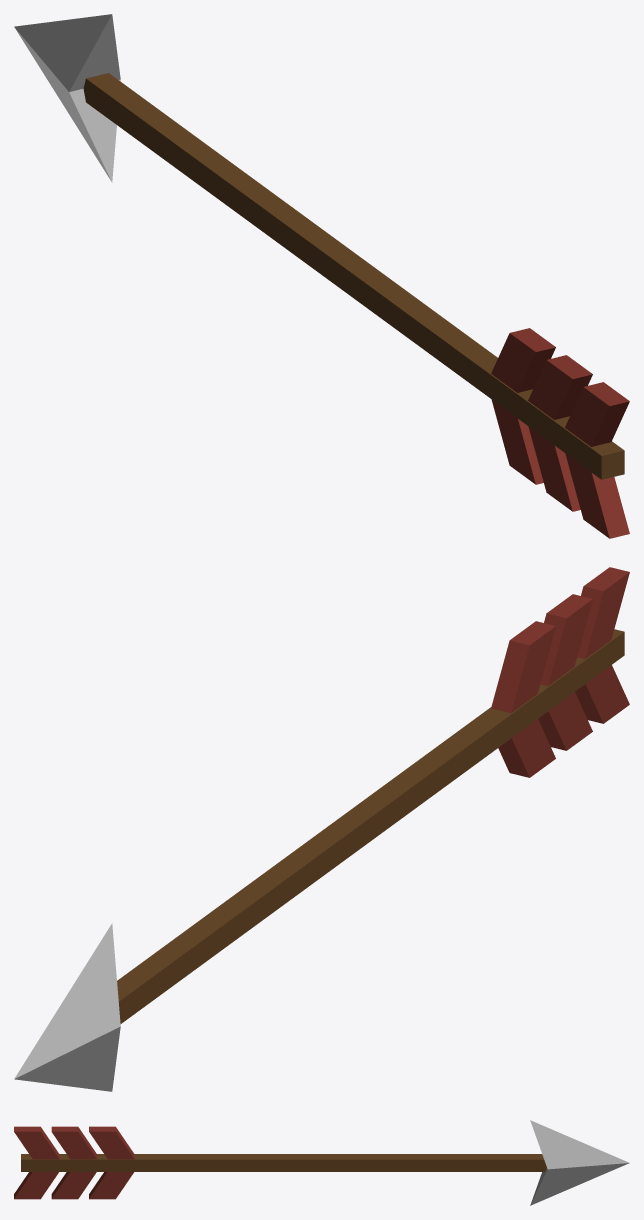
The model's file is Arrow.fbx.
3 renders of one model, top to bottom at view 1: azimuth 30°, elevation 25°; view 2: azimuth 150°, elevation 25°; view 3: azimuth 270°, elevation 25°, orthographic. The views are drawn at different scales.
Parts seen in each view (by area): view 1: ArrowBase, ArrowHead, Fletchin, Fletchin_3, Fletchin_1, Fletchin_2, Fletchin_4, Fletchin_5; view 2: ArrowBase, ArrowHead, Fletchin_2, Fletchin_1, Fletchin, Fletchin_5, Fletchin_4, Fletchin_3; view 3: ArrowBase, ArrowHead, Fletchin_1, Fletchin_2, Fletchin, Fletchin_4, Fletchin_5, Fletchin_3.
Boxes of the visible parts, x1,y1,x2,y2 form: ArrowBase: [83, 73, 624, 479]; ArrowHead: [14, 14, 120, 182]; Fletchin: [565, 382, 629, 446]; Fletchin_3: [565, 453, 629, 538]; Fletchin_1: [528, 355, 592, 419]; Fletchin_2: [491, 328, 555, 392]; Fletchin_4: [528, 426, 580, 511]; Fletchin_5: [491, 399, 543, 484]; ArrowBase: [117, 629, 624, 1023]; ArrowHead: [14, 923, 120, 1091]; Fletchin_2: [491, 621, 555, 712]; Fletchin_1: [540, 594, 592, 685]; Fletchin: [577, 567, 629, 658]; Fletchin_5: [498, 719, 555, 777]; Fletchin_4: [538, 692, 592, 750]; Fletchin_3: [575, 665, 629, 723]; ArrowBase: [21, 1154, 546, 1171]; ArrowHead: [530, 1120, 629, 1205]; Fletchin_1: [51, 1126, 97, 1159]; Fletchin_2: [89, 1126, 134, 1159]; Fletchin: [14, 1126, 59, 1159]; Fletchin_4: [51, 1172, 96, 1199]; Fletchin_5: [89, 1172, 133, 1199]; Fletchin_3: [14, 1172, 58, 1199].
Size of the model in its own units: 22.63 by 70.71 by 460.
